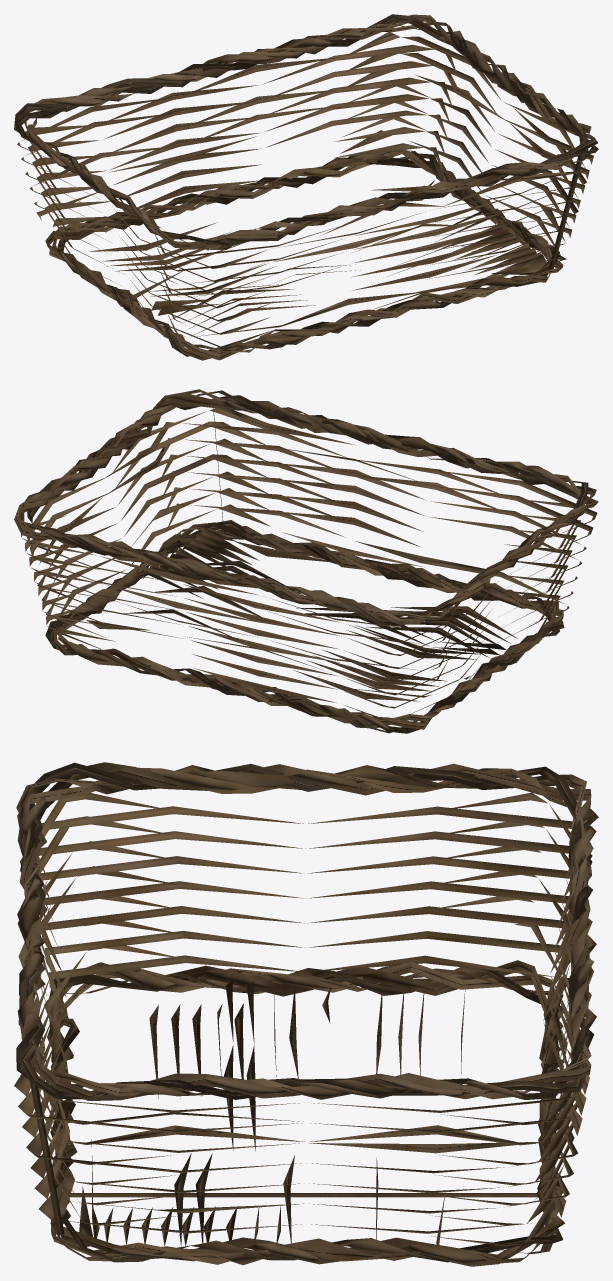
The model's file is wicker_basket_01.l.18e6e031.glb.
3 renders of one model, top to bottom at view 1: azimuth 30°, elevation 25°; view 2: azimuth 150°, elevation 25°; view 3: azimuth 270°, elevation 25°, orthographic. The views are drawn at different scales.
Visible parts, largest first — view 1: wicker_basket_01; view 2: wicker_basket_01; view 3: wicker_basket_01.
Part boxes in pixels (<box>): wicker_basket_01: <box>14,14,598,360</box>; wicker_basket_01: <box>14,389,598,733</box>; wicker_basket_01: <box>14,762,598,1266</box>.
Bounding box in the file's own units: 0.383 × 0.1172 × 0.294.
1 material, 1 textured.
